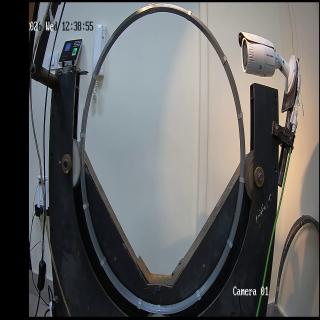clamp: (100, 256, 107, 268), (82, 201, 90, 211), (186, 9, 192, 22), (226, 238, 233, 249), (91, 71, 98, 81), (221, 55, 227, 66), (196, 288, 201, 301), (137, 297, 142, 310), (148, 3, 153, 15), (152, 2, 156, 14), (237, 112, 243, 120), (157, 304, 161, 315), (239, 176, 245, 183), (80, 132, 86, 138)
